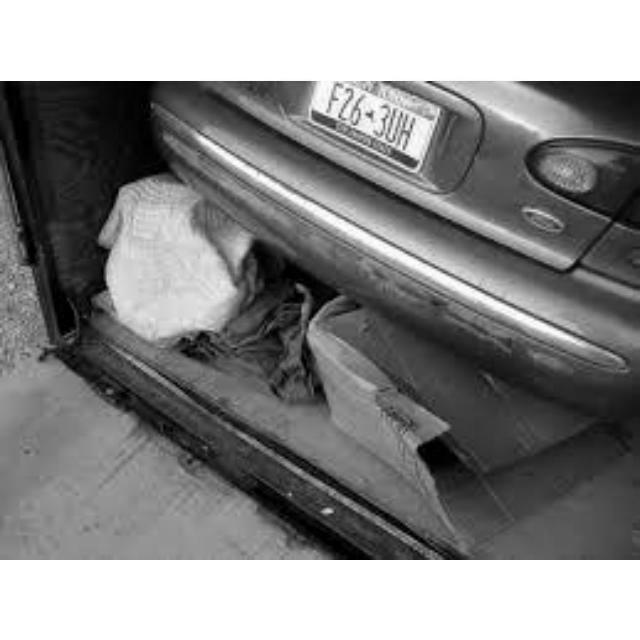rear-bumper-dent: (200, 142, 600, 334)
